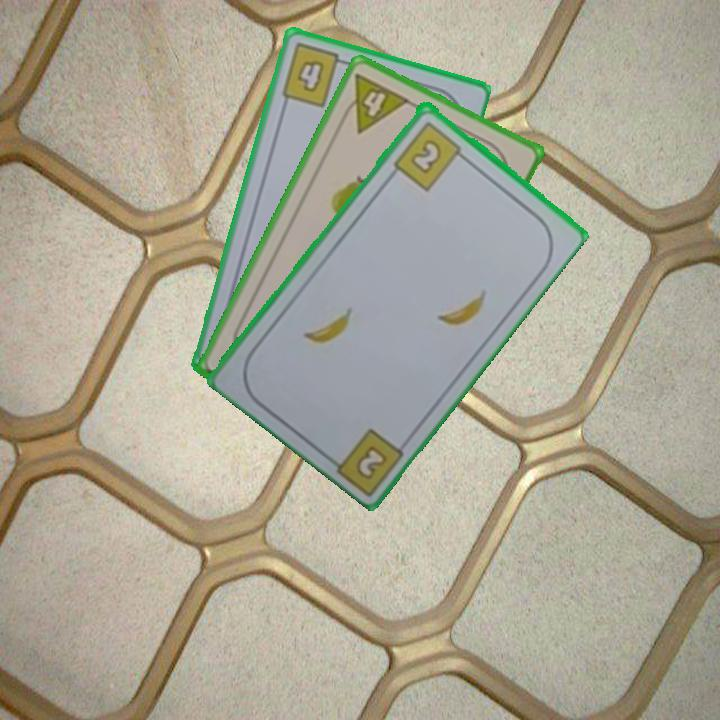2b: (390, 117, 470, 193), (351, 441, 391, 482)
4b: (277, 39, 352, 110)
4p: (335, 69, 413, 136)
